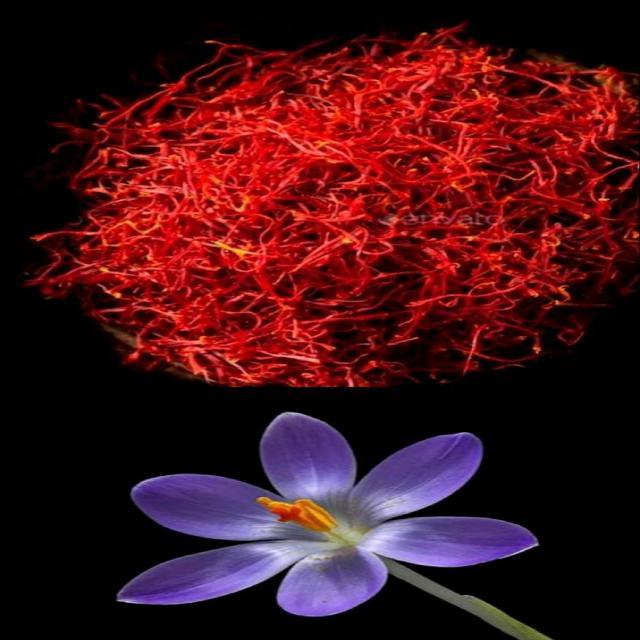Flower: (112, 413, 539, 619)
